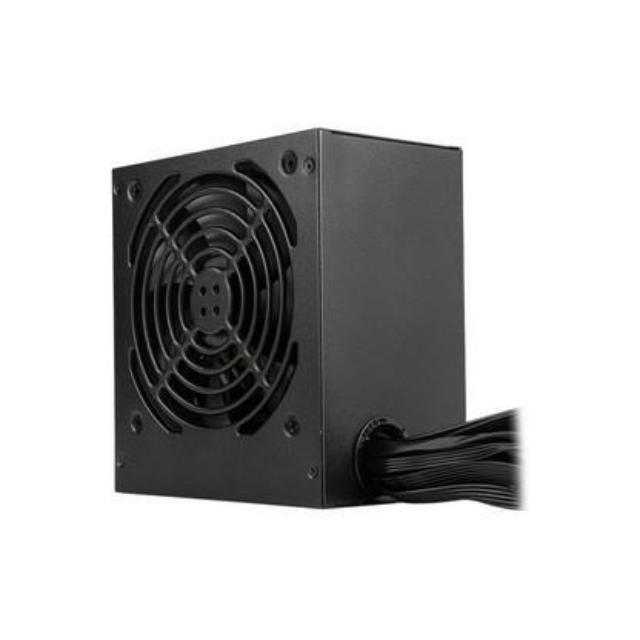PSU: (104, 123, 472, 512)
